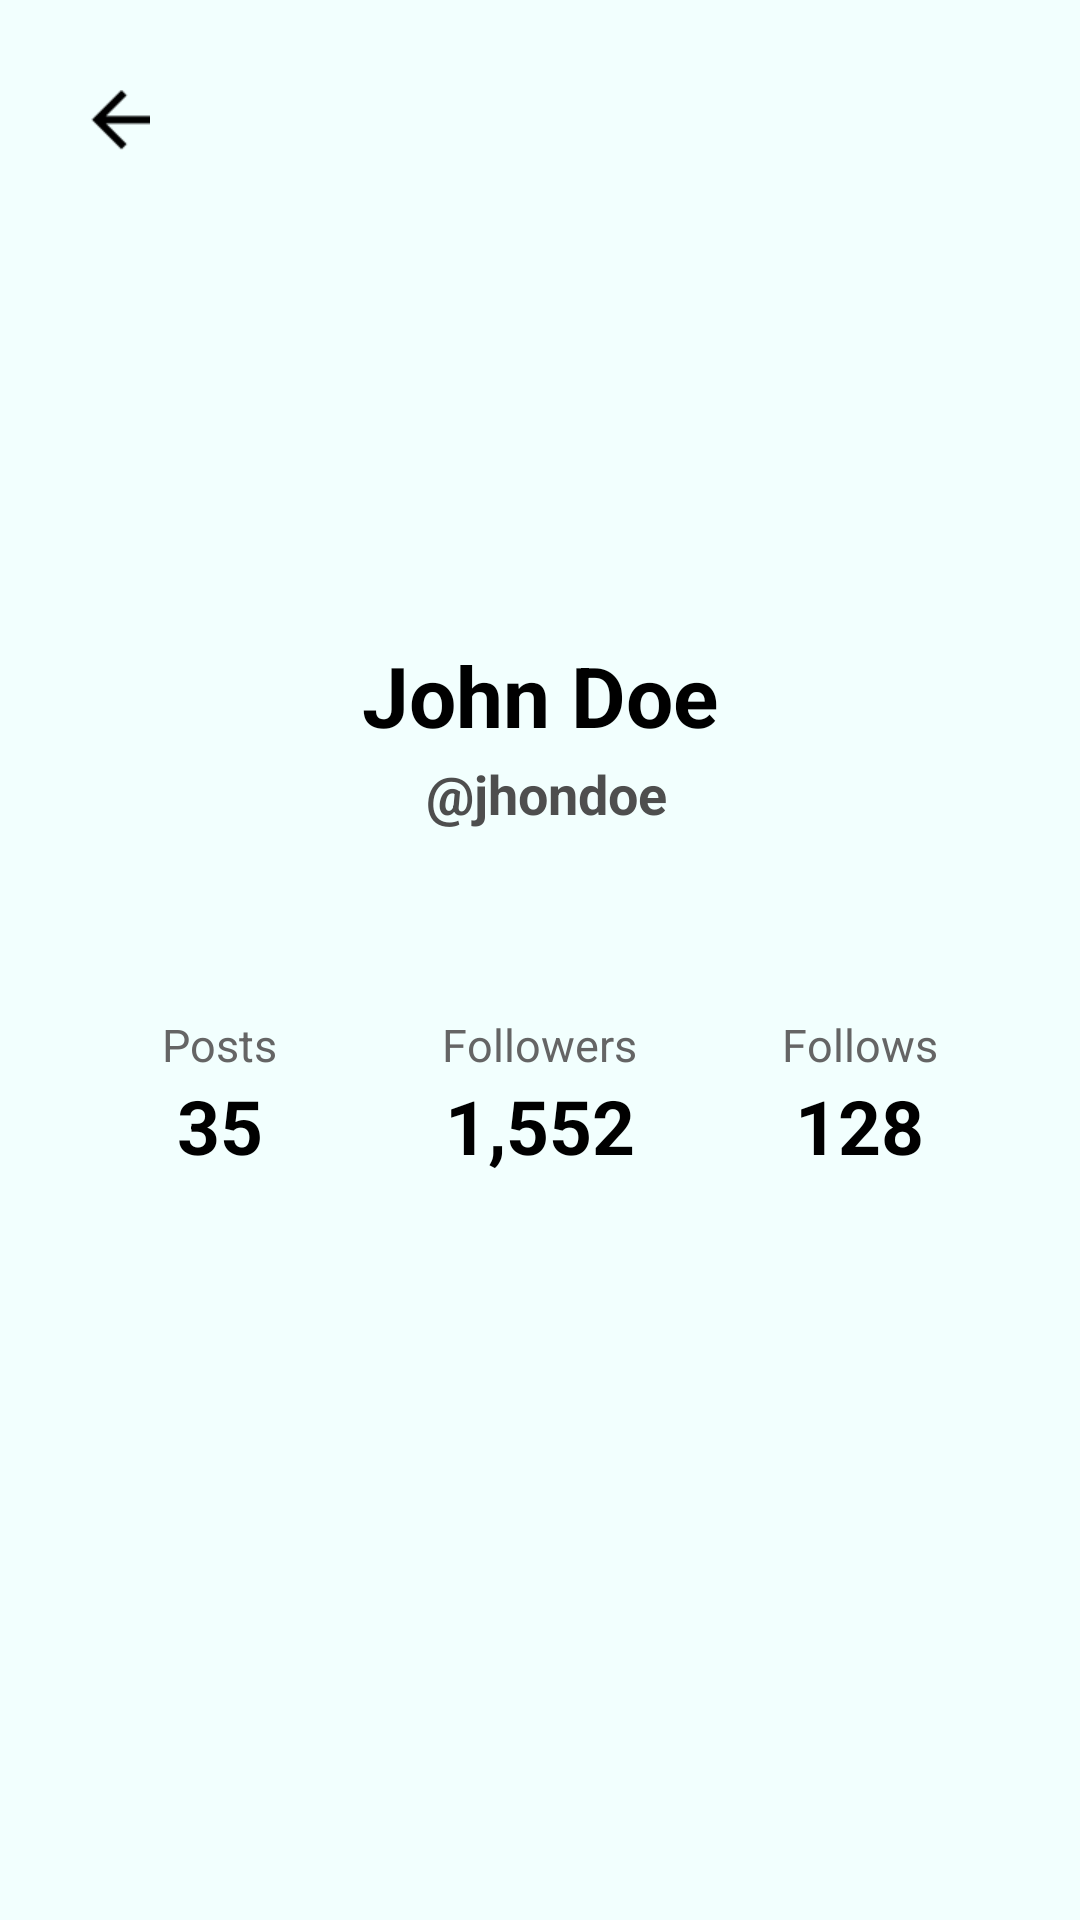

Where to tap for icons on this 1080*1920 app screen, as (x,y):
backbutton: (120,120)
